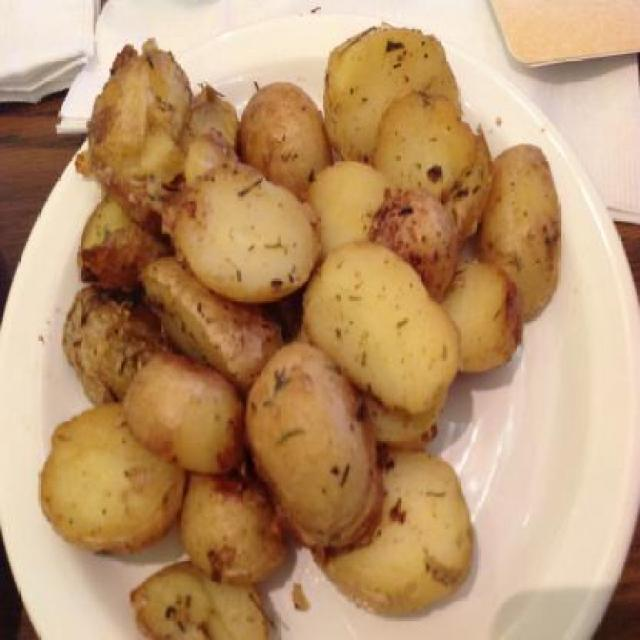Potato: (38, 16, 556, 639), (41, 396, 186, 558)
